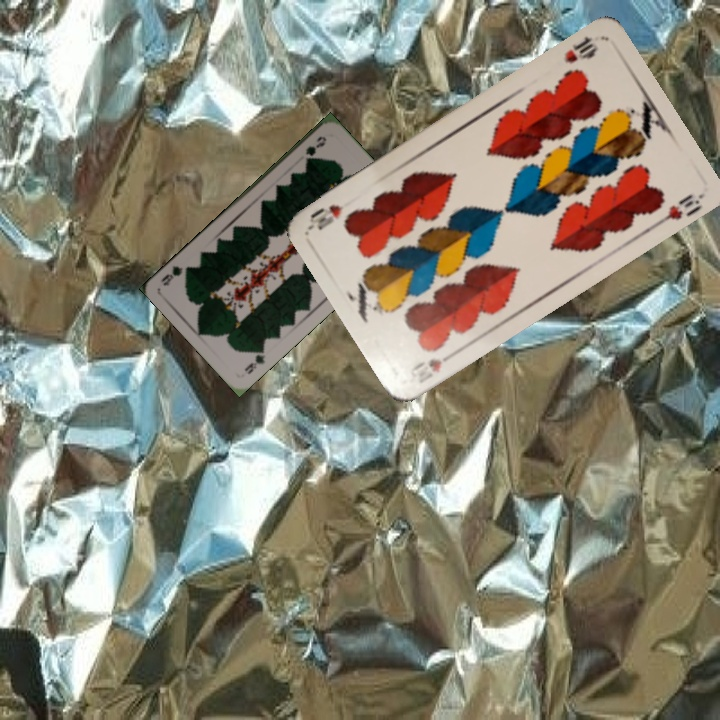G9: (240, 343, 268, 377), (301, 132, 329, 165)
H10: (406, 347, 459, 387), (560, 32, 601, 66)
